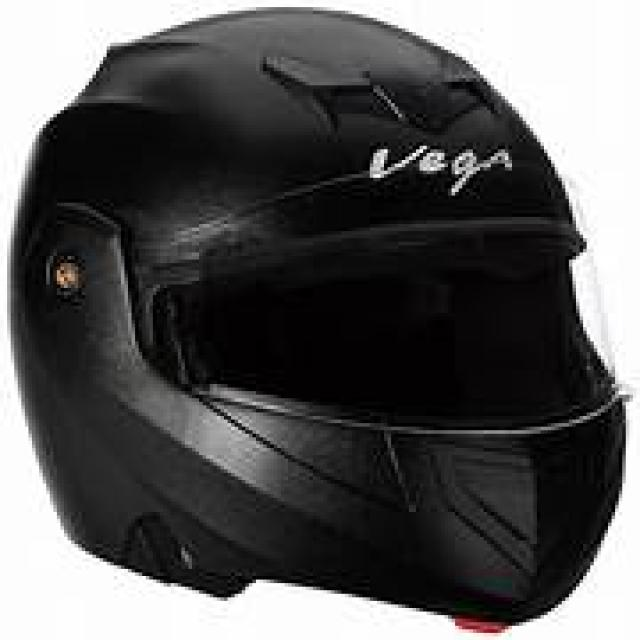helmet: (11, 7, 622, 619)
